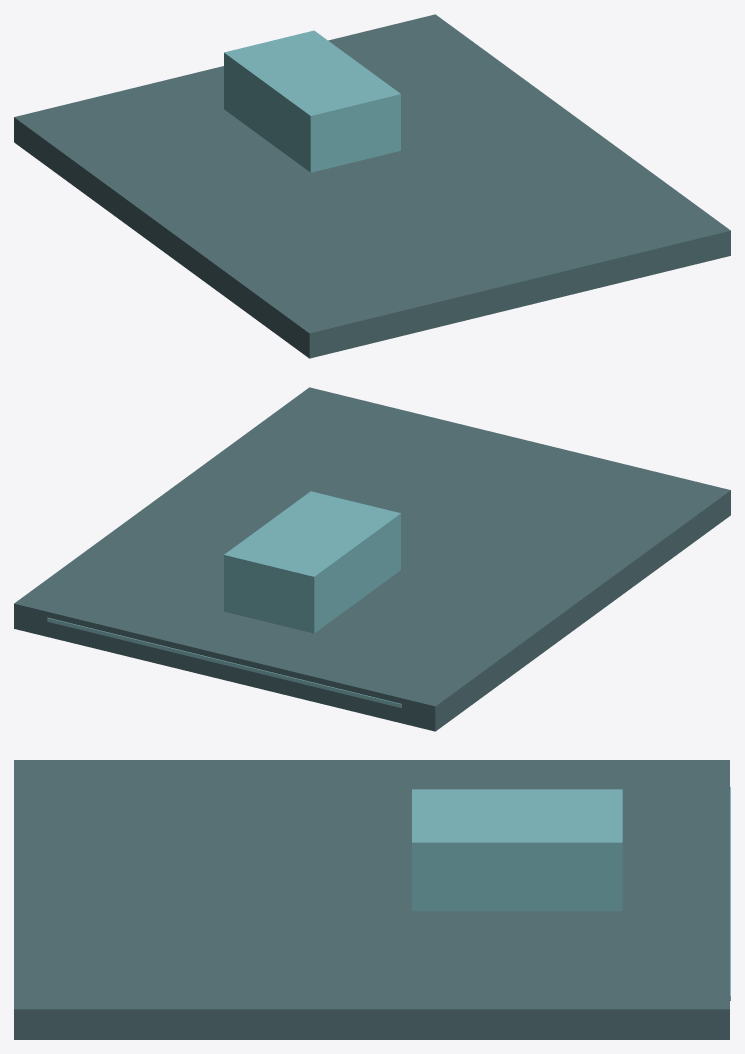
3 renders of one model, top to bottom at view 1: azimuth 30°, elevation 25°; view 2: azimuth 150°, elevation 25°; view 3: azimuth 270°, elevation 25°, orthographic. The views are drawn at different scales.
Visible parts, largest first — view 1: 原三盒载具代理尺寸派生; view 2: 原三盒载具代理尺寸派生; view 3: 原三盒载具代理尺寸派生.
Boxes of the visible parts, box(x1,y1,x2,y2) form: 原三盒载具代理尺寸派生: box(14, 14, 730, 358); 原三盒载具代理尺寸派生: box(14, 387, 730, 731); 原三盒载具代理尺寸派生: box(14, 760, 730, 1039).
Size of the model in its own units: 14 by 2.6 by 17.02.
4 materials, 4 textured.
